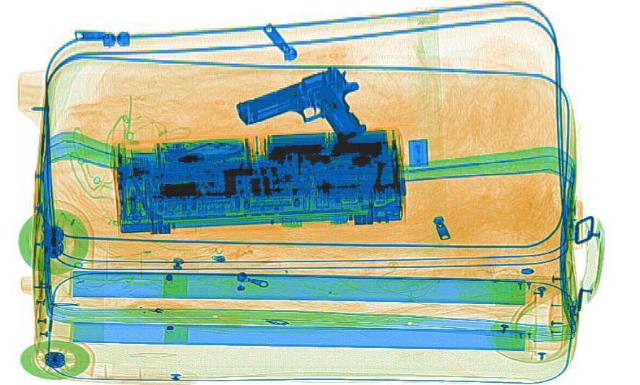Gun: (222, 62, 404, 159)
